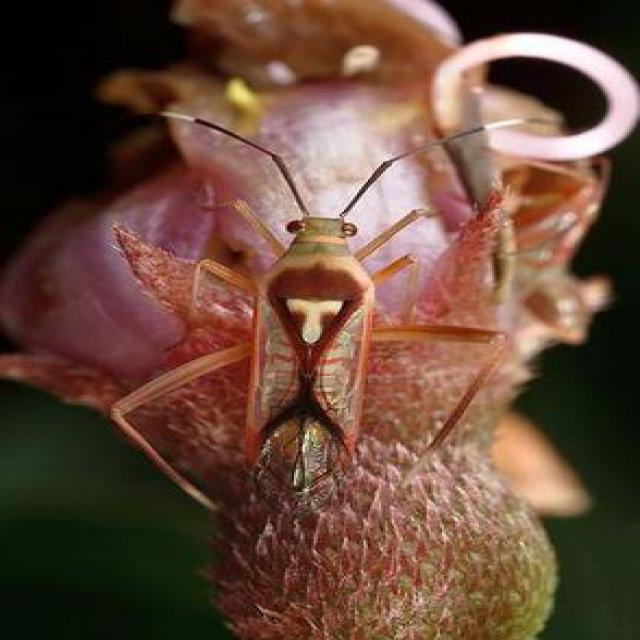Miridae-Adult-: (113, 101, 537, 500)
